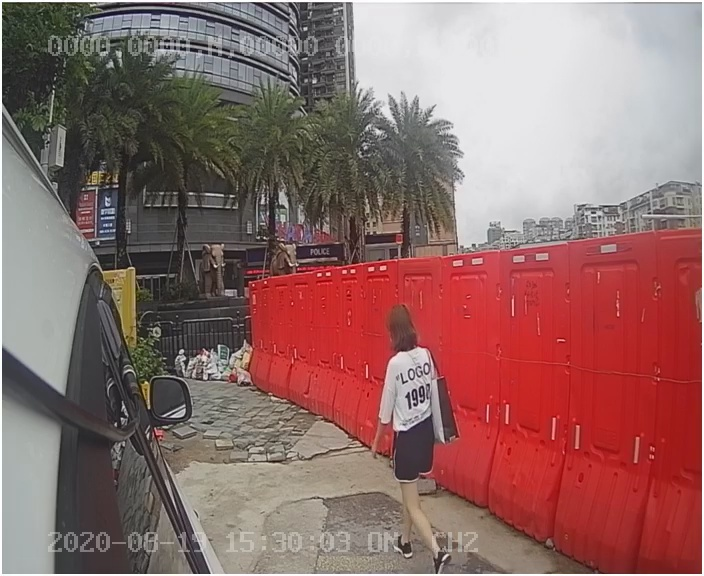person: (349, 306, 477, 570)
